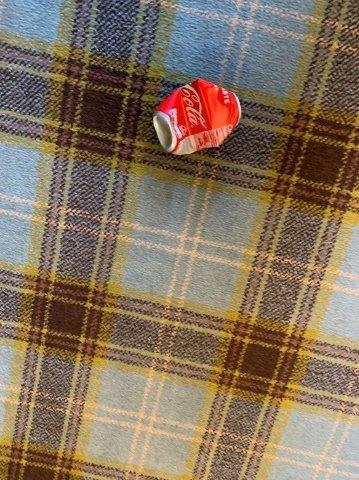kaleng: (153, 77, 241, 156)
